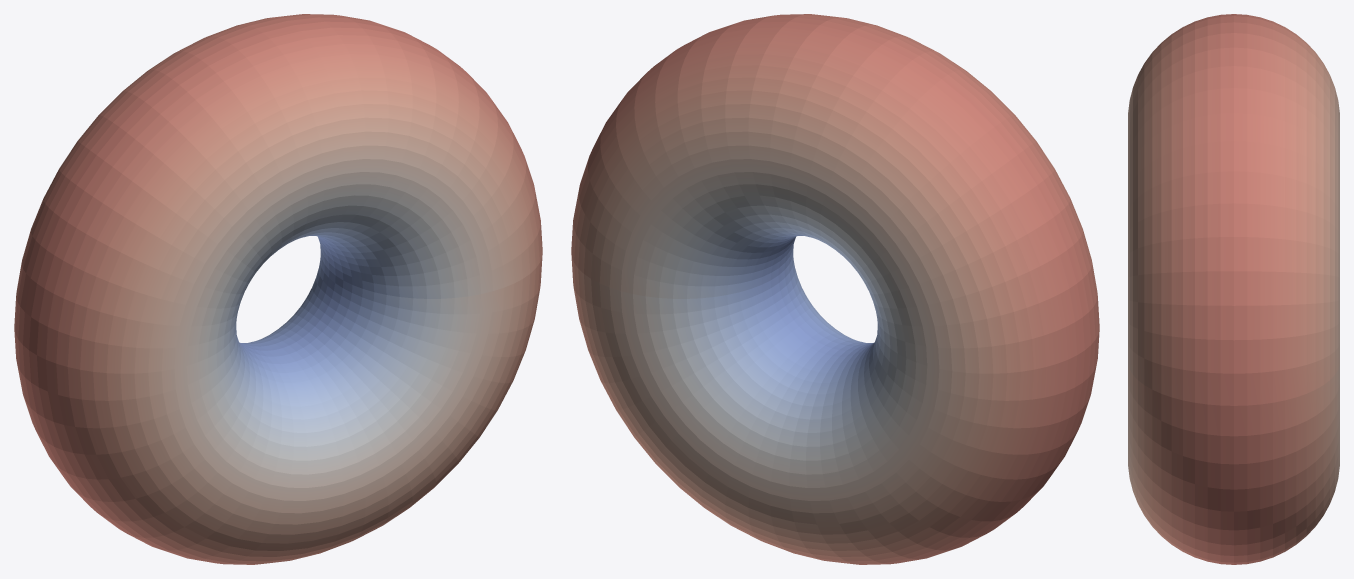
3 renders of one model, left to right at view 1: azimuth 30°, elevation 25°; view 2: azimuth 150°, elevation 25°; view 3: azimuth 270°, elevation 25°, orthographic. The views are drawn at different scales.
Parts seen in each view (by area): view 1: world; view 2: world; view 3: world.
Boxes of the visible parts, x1=… form: world: x1=14, y1=14, x2=542, y2=564; world: x1=571, y1=14, x2=1099, y2=564; world: x1=1128, y1=14, x2=1339, y2=564.
Size of the model in its own units: 23.87 by 23.82 by 9.18.
